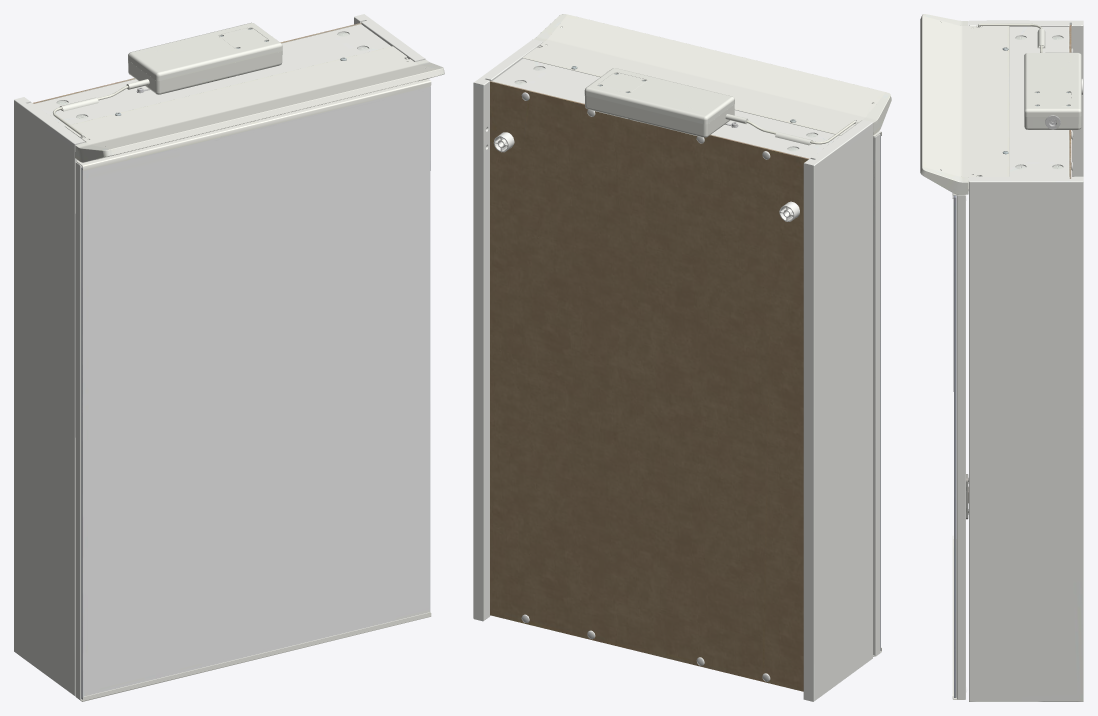
File: treasjon_szafka_lustrzana_z_oswietleniem_50564445.glb
3 views of the same model, side by side, from view 1: azimuth 30°, elevation 25°; view 2: azimuth 150°, elevation 25°; view 3: azimuth 270°, elevation 25° (orthographic). The views are drawn at different scales.
Visible parts, largest first — view 1: treasjon_szafka_lustrzana_z_oswietleniem_50564445; view 2: treasjon_szafka_lustrzana_z_oswietleniem_50564445; view 3: treasjon_szafka_lustrzana_z_oswietleniem_50564445.
Boxes of the visible parts, bbox=[...] form: treasjon_szafka_lustrzana_z_oswietleniem_50564445: bbox=[14, 14, 444, 701]; treasjon_szafka_lustrzana_z_oswietleniem_50564445: bbox=[473, 14, 891, 701]; treasjon_szafka_lustrzana_z_oswietleniem_50564445: bbox=[920, 14, 1083, 701].
Size of the model in its own units: 0.5006 by 0.7786 by 0.2137.
Materials: 6 (6 with a texture image).
